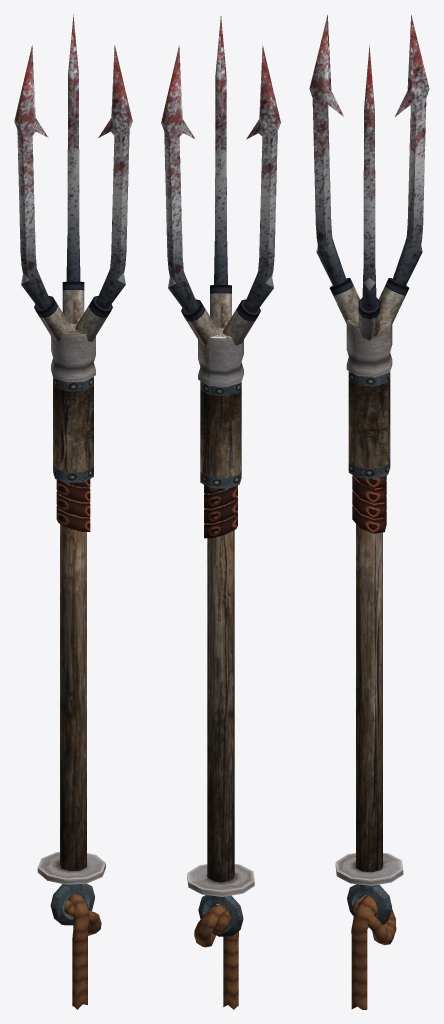
File: Harpoon.fbx
The picture shows the model from 3 angles, left to right: view 1: azimuth 30°, elevation 25°; view 2: azimuth 150°, elevation 25°; view 3: azimuth 330°, elevation 25°; orthographic projection.
Parts seen in each view (by area): view 1: Cylinder.047; view 2: Cylinder.047; view 3: Cylinder.047.
Part boxes in pixels (x1=…): Cylinder.047: x1=14, y1=14, x2=132, y2=1009; Cylinder.047: x1=161, y1=16, x2=280, y2=1009; Cylinder.047: x1=309, y1=15, x2=429, y2=1009.
Bounding box in the file's own units: 21.45 × 219 × 24.28.
5 materials, 5 textured.
